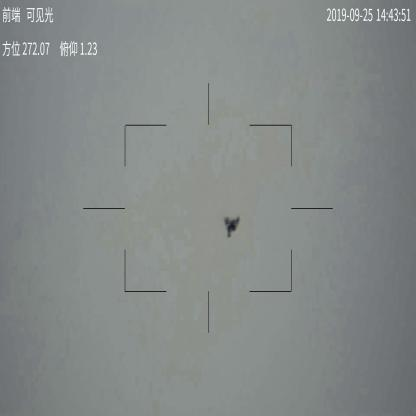uav: (221, 214, 244, 239)
